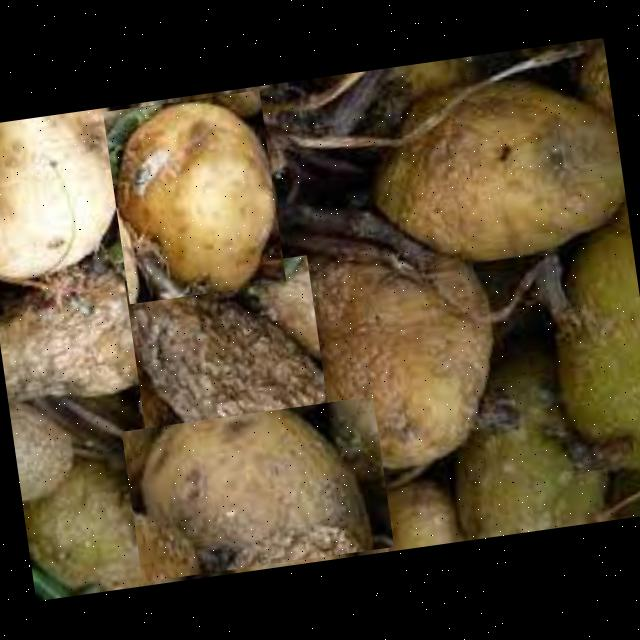Damaged potato: (291, 216, 514, 487), (358, 68, 613, 283), (122, 397, 394, 582), (125, 255, 332, 463), (103, 90, 286, 304)
